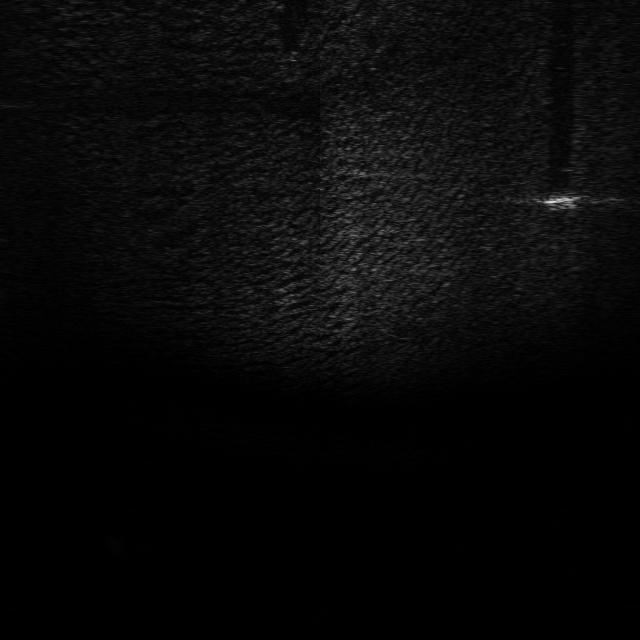cube: (540, 187, 582, 214)
